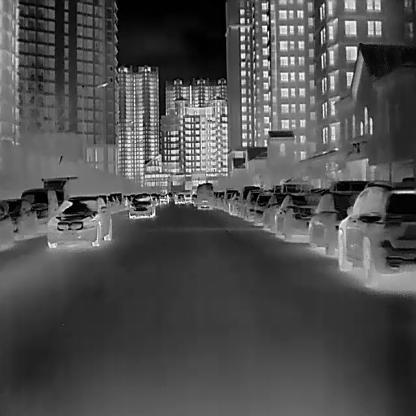car: (338, 180, 416, 286), (45, 193, 111, 246), (307, 191, 361, 253), (274, 192, 321, 243), (19, 187, 58, 230), (0, 198, 35, 238), (41, 176, 78, 205), (263, 192, 289, 232), (245, 186, 264, 223), (128, 192, 155, 217), (253, 193, 273, 225), (197, 182, 215, 209), (174, 190, 192, 203), (107, 195, 117, 211)
